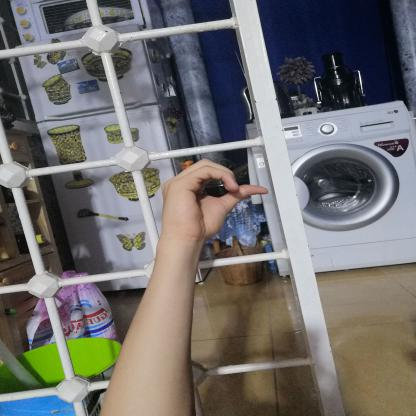WAW: (149, 151, 281, 250)
